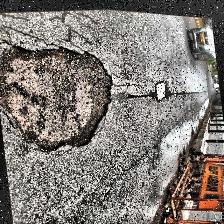pothole: (0, 32, 122, 162)
